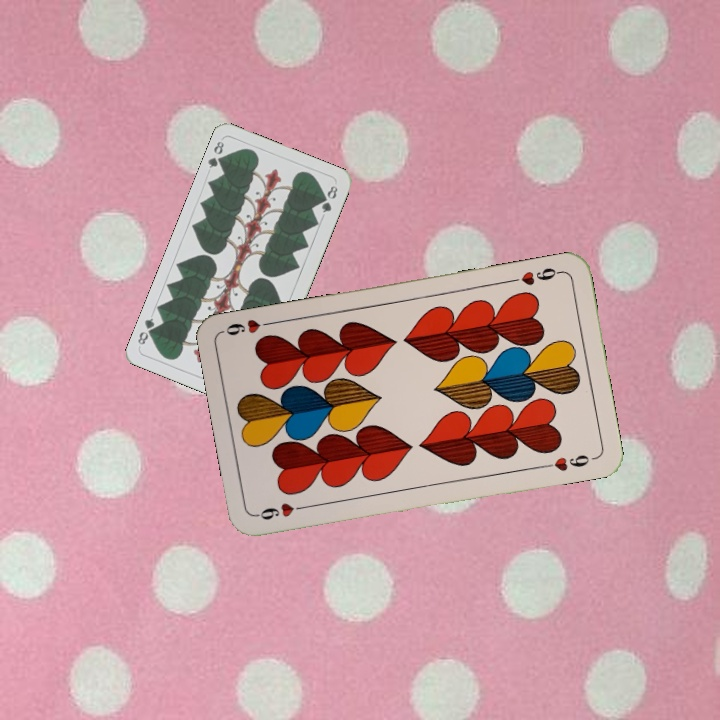G8: (204, 137, 228, 171)
H9: (506, 263, 565, 288), (253, 498, 312, 523)
